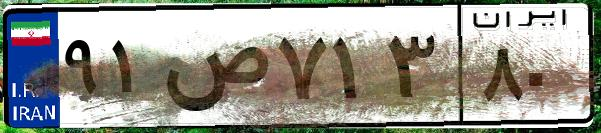0: (525, 38, 570, 115)
1: (330, 28, 385, 110), (110, 28, 158, 98)
3: (385, 28, 445, 110)
7: (270, 28, 330, 110)
8: (475, 38, 525, 113)
9: (57, 26, 110, 100)
ص: (158, 20, 270, 120)
